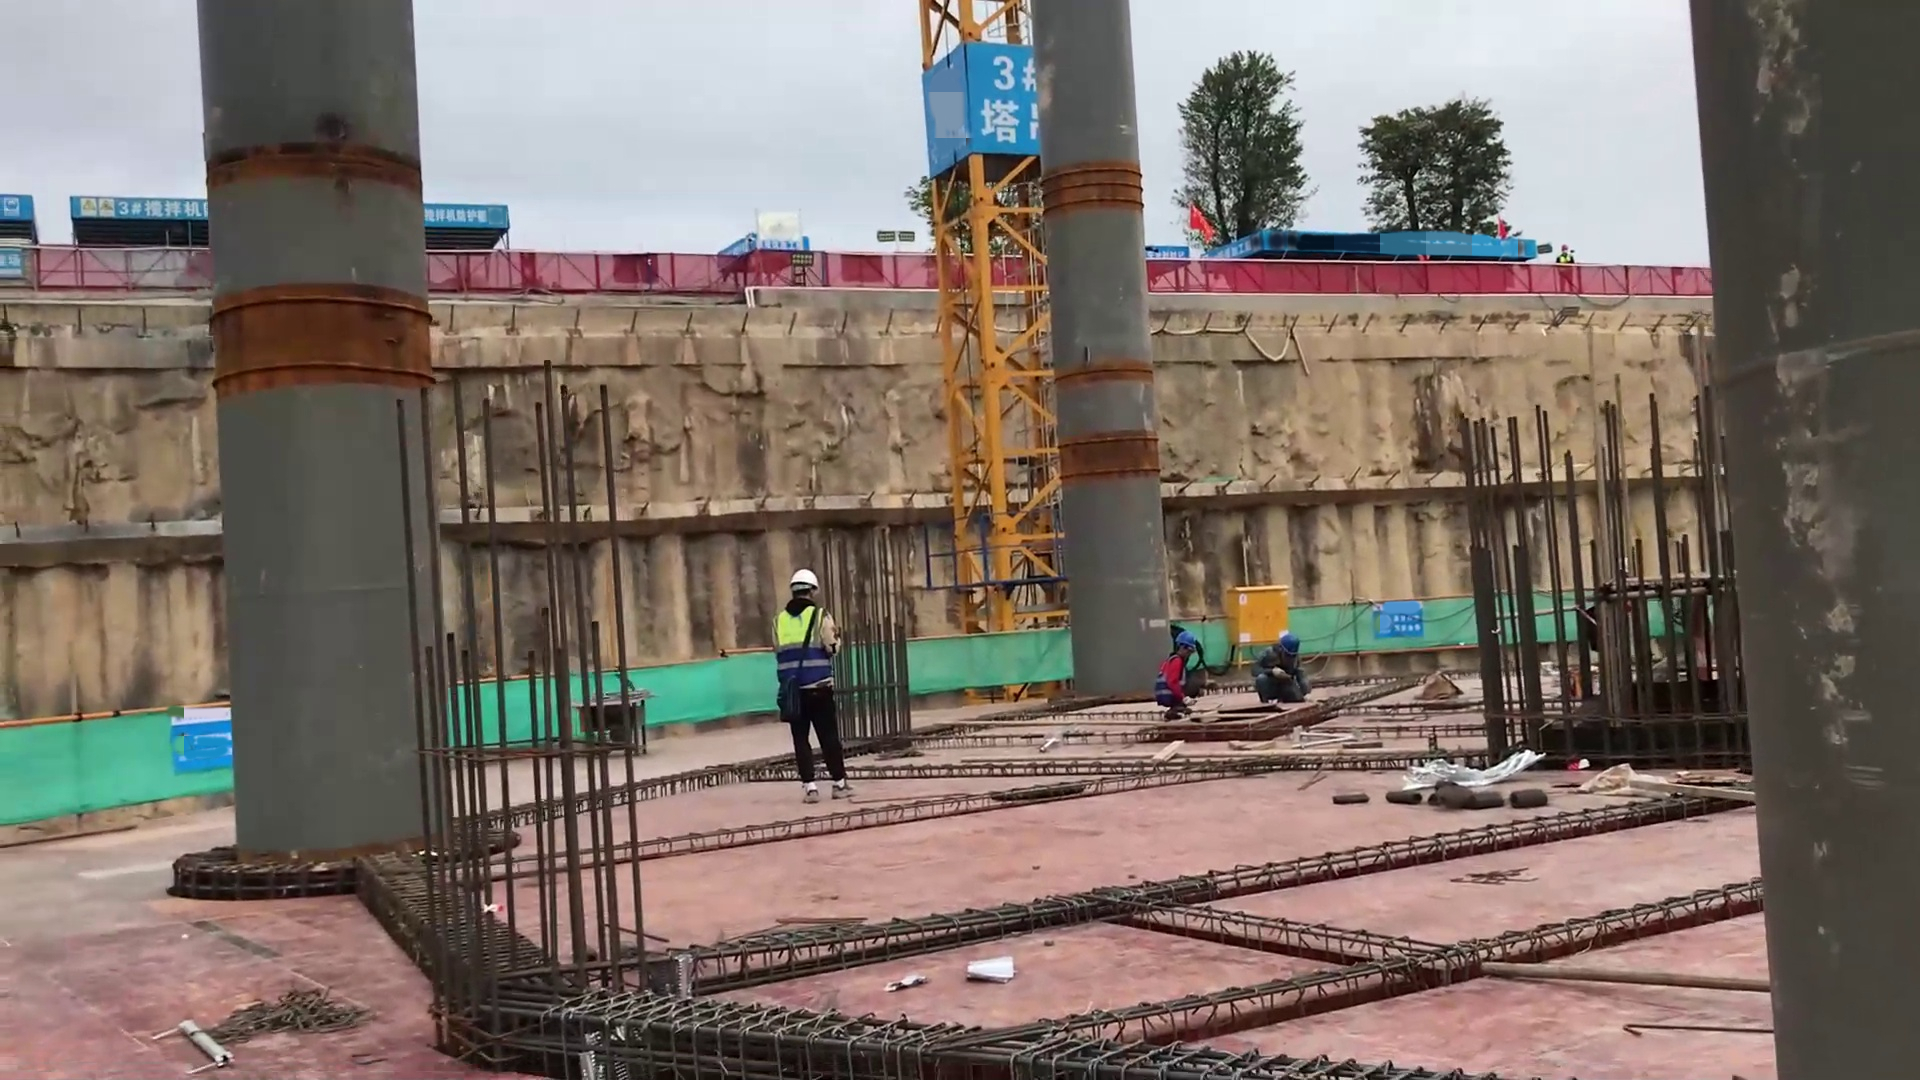cutter: (573, 673, 655, 760)
ebox: (1225, 582, 1291, 647)
fence: (433, 238, 940, 307), (1174, 252, 1696, 301)
helmet: (790, 566, 822, 593), (1175, 629, 1197, 649), (1282, 638, 1301, 653)
person: (770, 568, 860, 807), (1252, 635, 1317, 711), (1153, 630, 1201, 720), (1554, 243, 1579, 265)
slogan: (68, 188, 208, 220), (423, 202, 513, 229), (1371, 611, 1429, 640), (752, 235, 808, 249)
vest: (777, 605, 837, 686)
